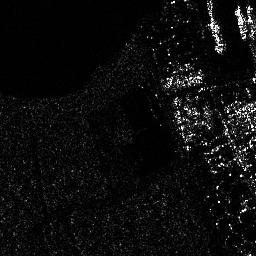ship: (233, 6, 249, 40)
